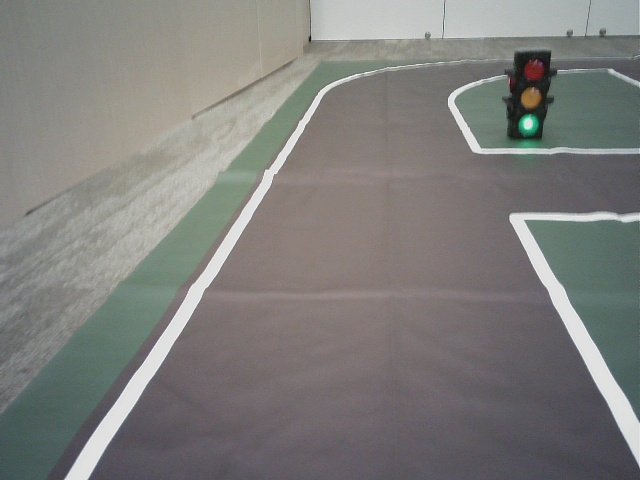green: (515, 54, 546, 135)
